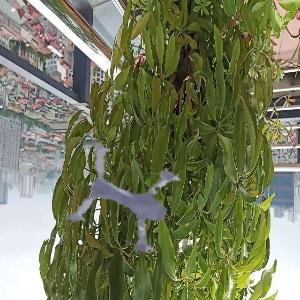drone: (67, 132, 212, 277)
